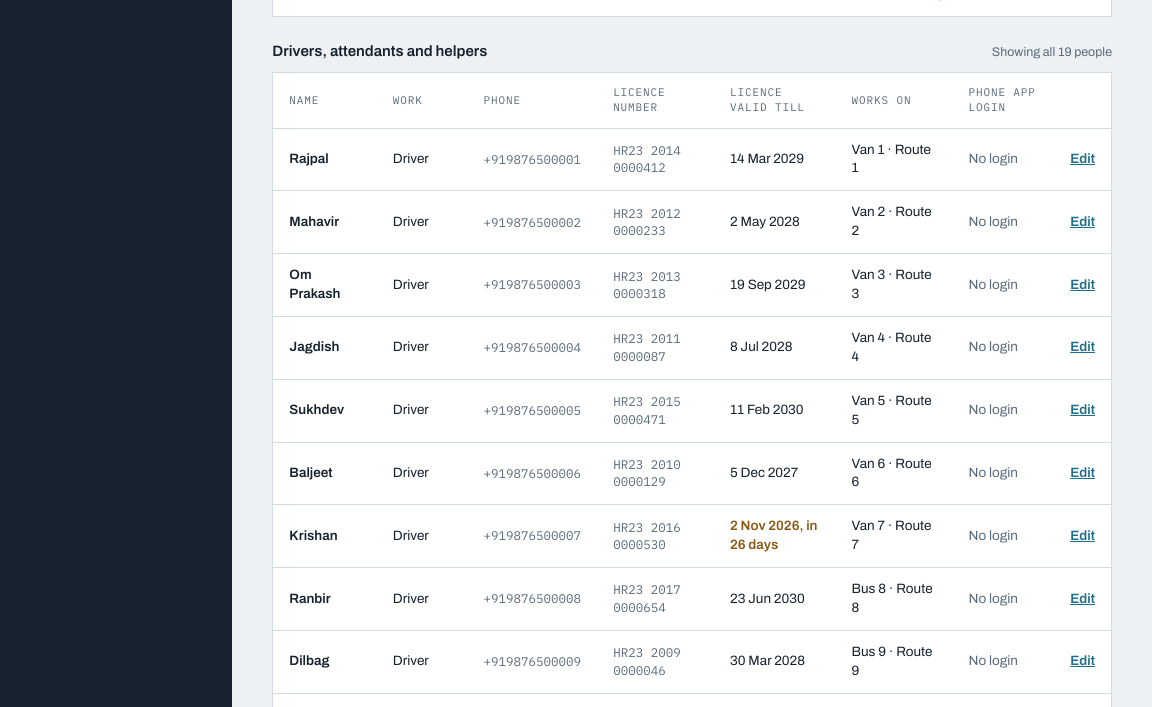
it: Add and edit a person › shows the server message when a person still on a vehicle is turned off
The width and height of the screenshot is (1152, 707).
(page scrolled)
Click the button with aria-label "Edit Jagdish".
click(1083, 348)  # box [1070, 338, 1095, 357]
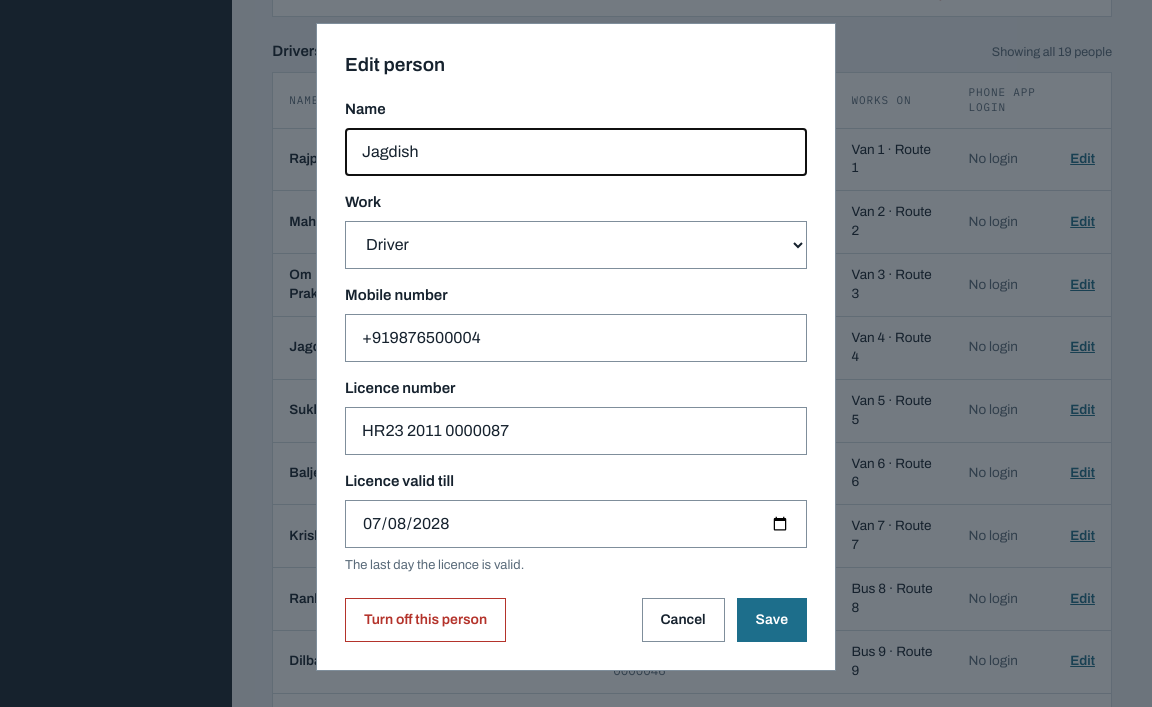
Check: the field labelled "Name" holds "Jagdish", box [345, 128, 807, 176]
Click the button "Turn off this person".
click(426, 620)  # box [345, 598, 506, 642]
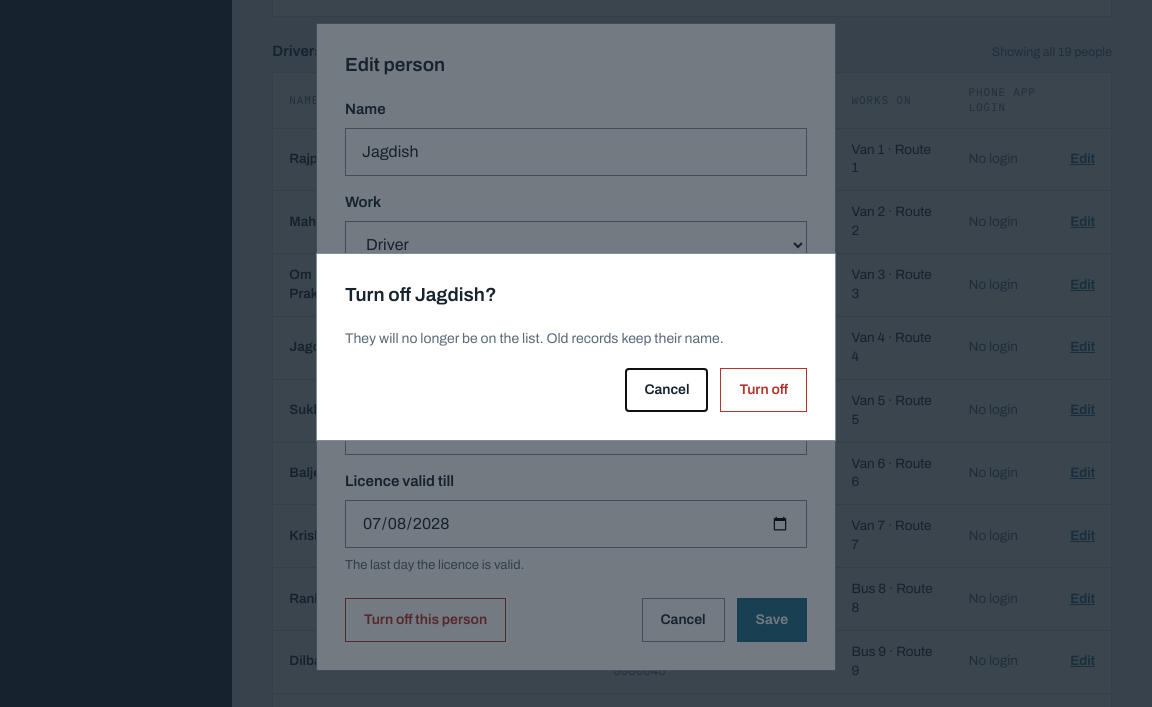
Click the button "Turn off".
click(764, 390)  # box [720, 368, 807, 412]
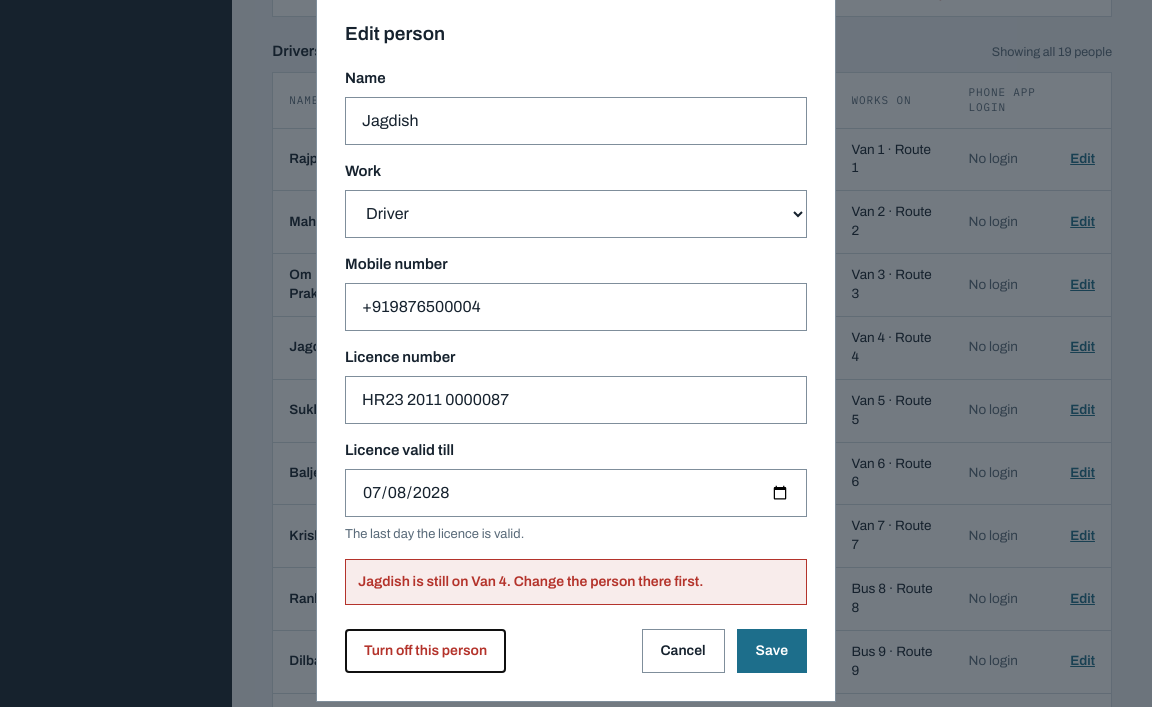
Check: the message reads "Jagdish is still on Van 4. Change the person there first.", box [358, 574, 703, 589]
